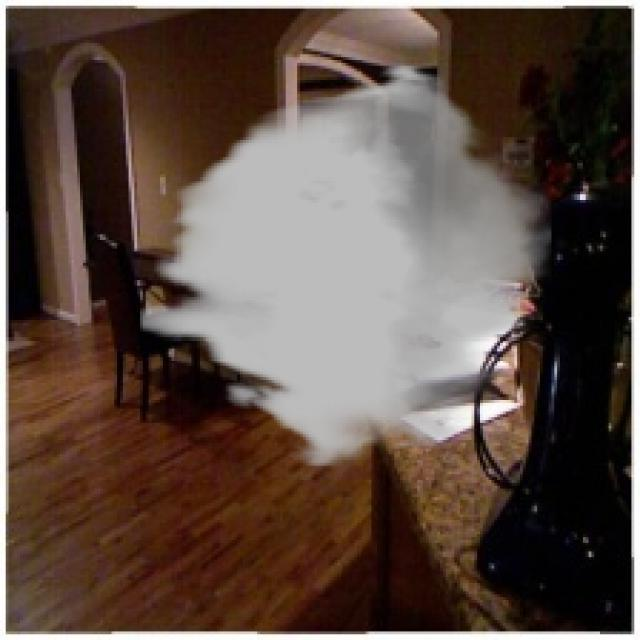Smoke: (139, 62, 552, 468)
